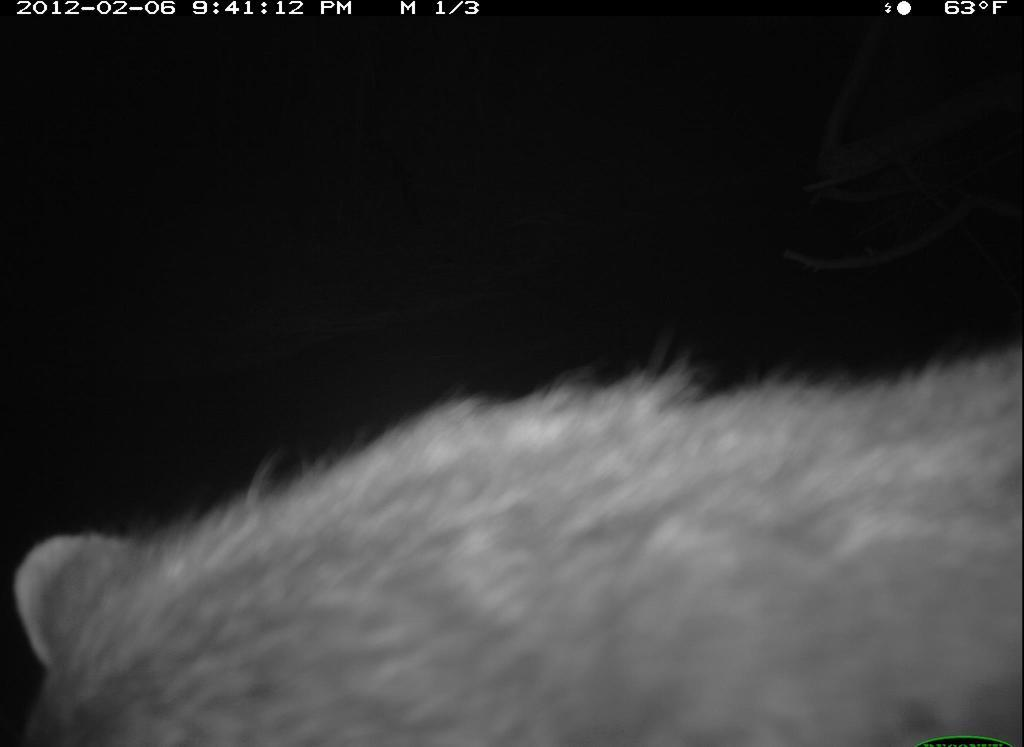raccoon: (2, 315, 1023, 745)
